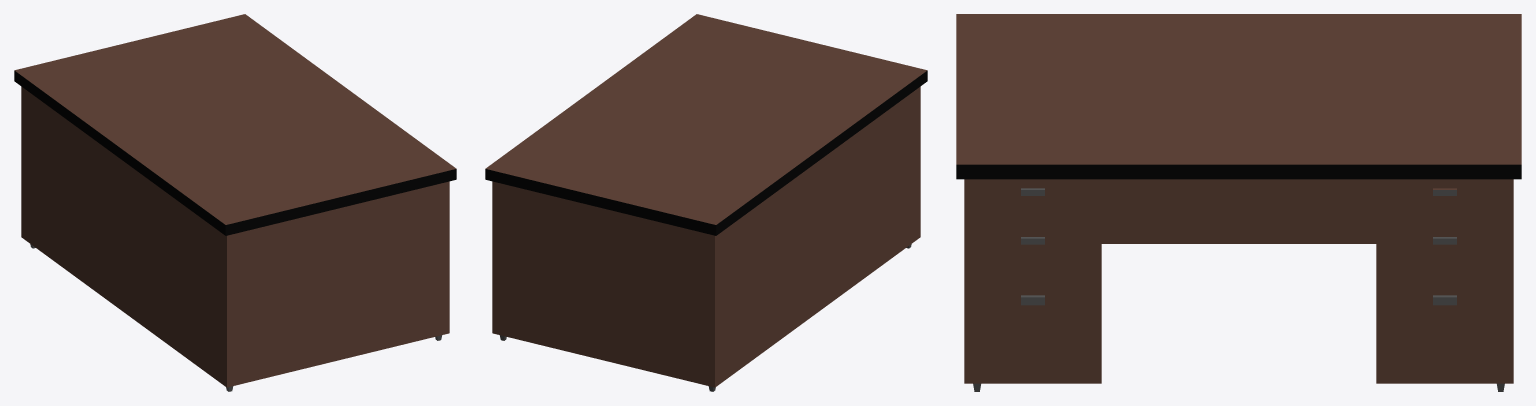
Rendered from TeacherDesk.fbx.
3 renders of one model, left to right at view 1: azimuth 30°, elevation 25°; view 2: azimuth 150°, elevation 25°; view 3: azimuth 270°, elevation 25°, orthographic. The views are drawn at different scales.
Parts seen in each view (by area): view 1: Cube; view 2: Cube; view 3: Cube.
Boxes of the visible parts, left/top/right/bottom form: Cube: left=14, top=14, right=456, bottom=391; Cube: left=485, top=14, right=927, bottom=391; Cube: left=956, top=14, right=1521, bottom=391.
Bounding box in the file's own units: 13403 × 9665 × 21262.
